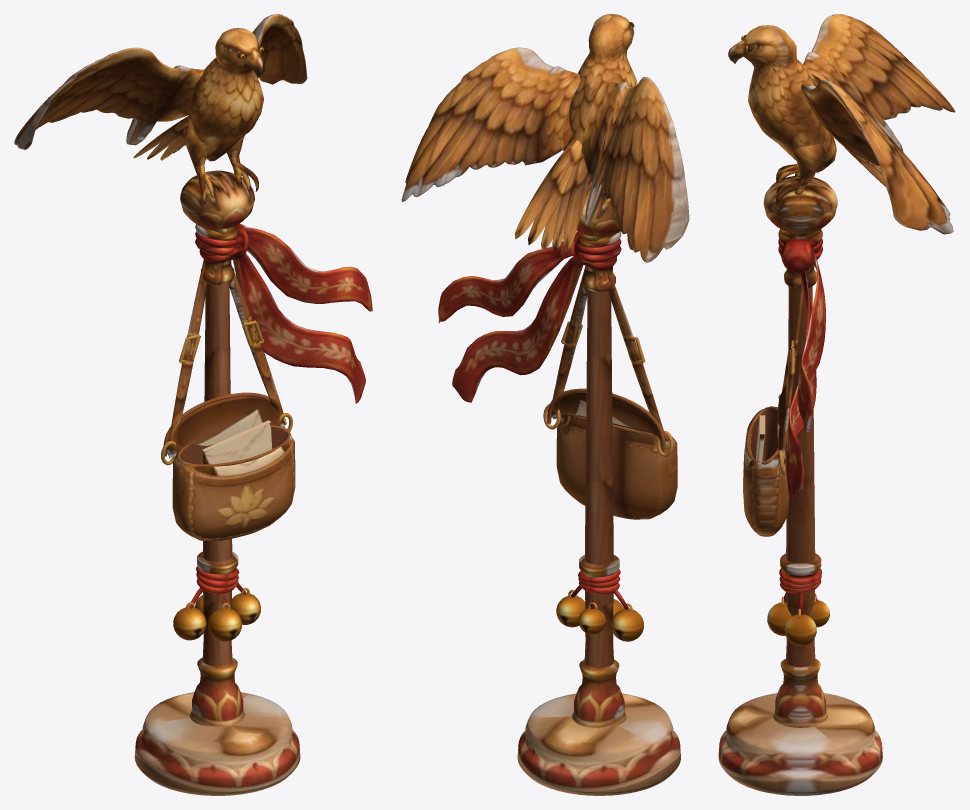
The model's file is relic-kite.glb.
3 views of the same model, side by side, from view 1: azimuth 30°, elevation 25°; view 2: azimuth 150°, elevation 25°; view 3: azimuth 270°, elevation 25° (orthographic).
Visible parts, largest first — view 1: Kite | Courier standard; view 2: Kite | Courier standard; view 3: Kite | Courier standard.
Part boxes in pixels (bbox=[...]): Kite | Courier standard: bbox=[14, 14, 372, 795]; Kite | Courier standard: bbox=[401, 14, 689, 795]; Kite | Courier standard: bbox=[718, 14, 955, 795].
Size of the model in its own units: 0.2221 by 0.537 by 0.155.
8 materials, 8 textured.
